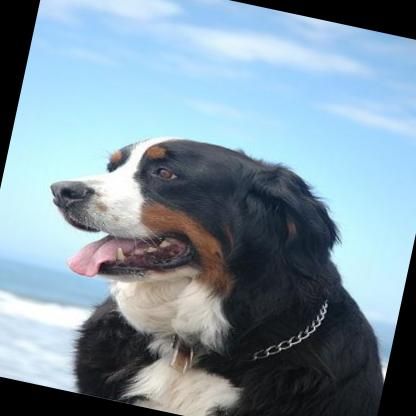Bernese_mountain_dog: (4, 109, 416, 416)
